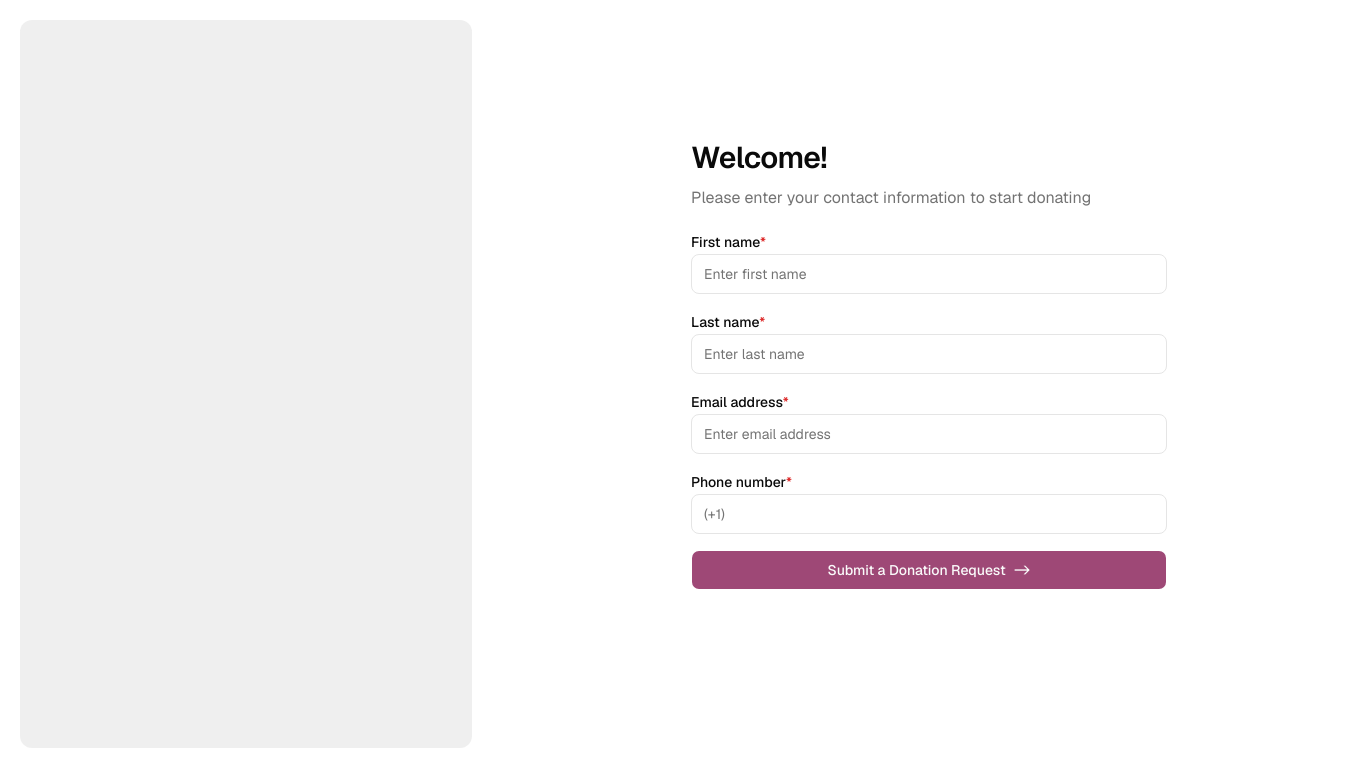
Test case: DonationContactForm › shows required, email, and phone validation messages
This screenshot has width=1366, height=768.
Click the button "Submit a Donation Request ->".
click(929, 570)  # box [691,550,1167,590]
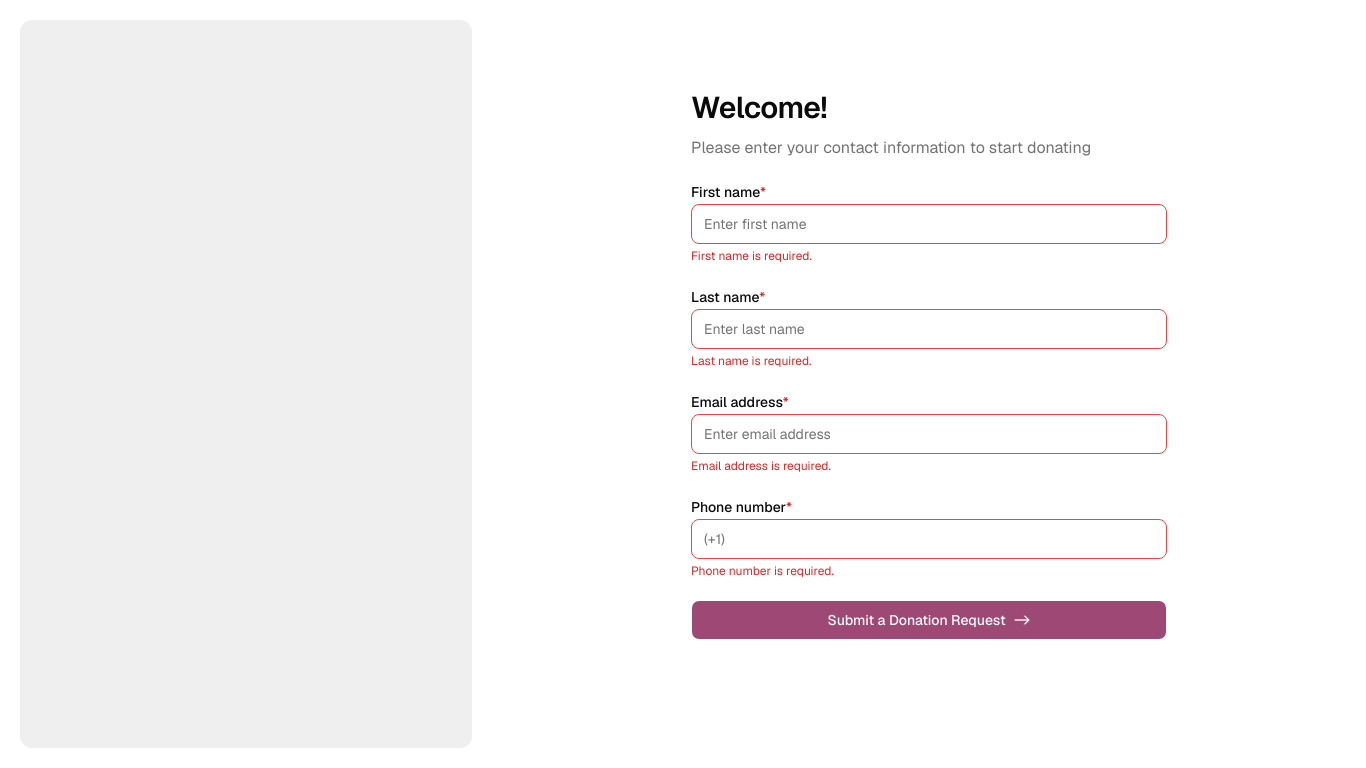
Result: the text "First name is required." is shown at [691,248,812,264]
Result: the text "Last name is required." is shown at [691,353,811,369]
Result: the text "Email address is required." is shown at [691,458,831,474]
Type "Jane" into the field labelled "First name*".
click(929, 224); type("Jane")  # box [691,204,1167,244]
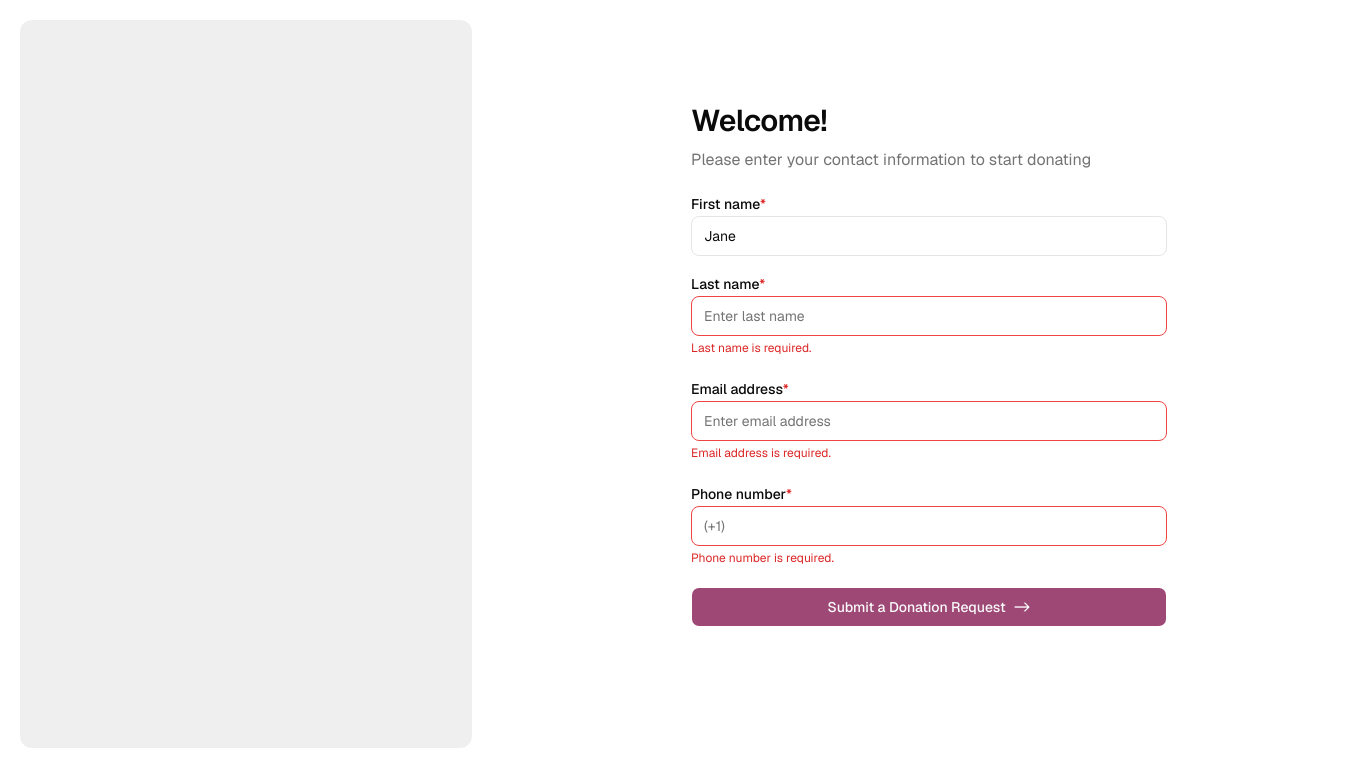
Type "Doe" into the field labelled "Last name*".
click(929, 316); type("Doe")  # box [691,296,1167,336]
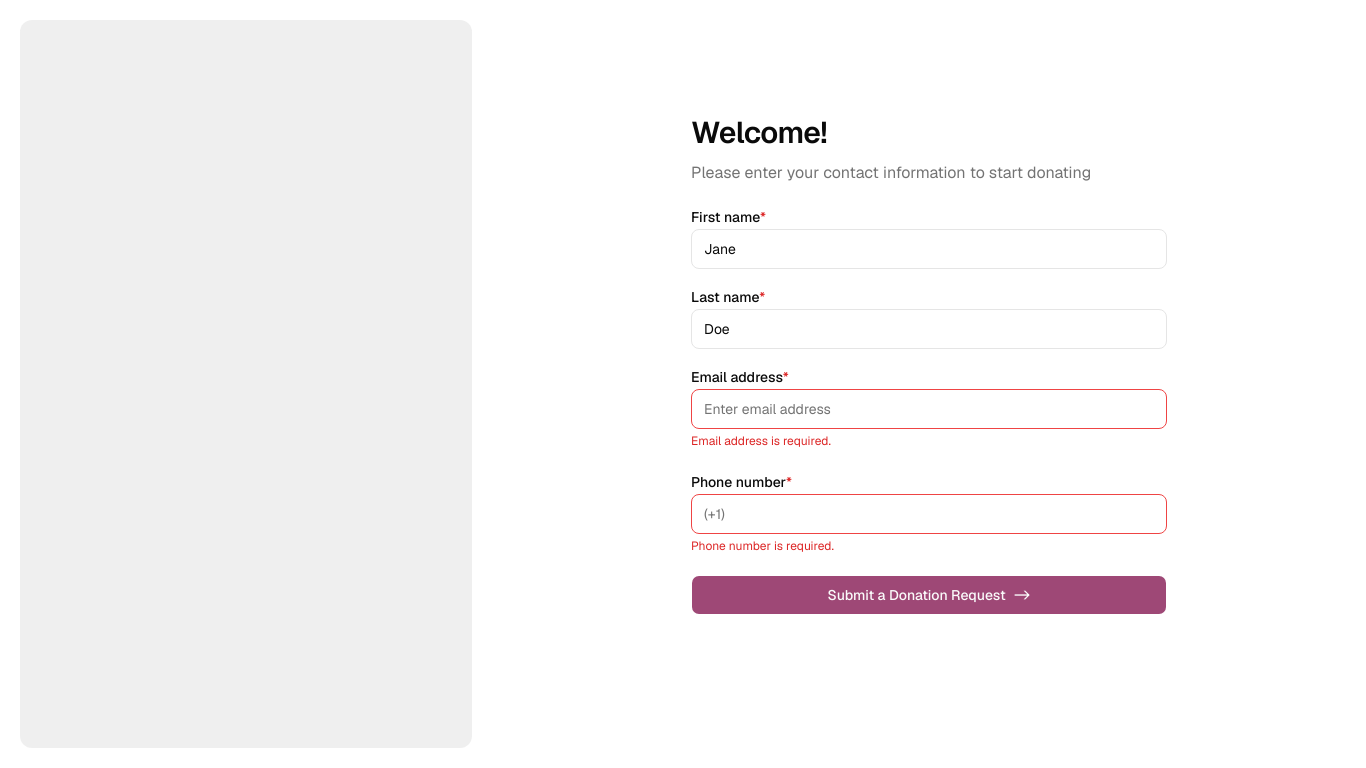
Type "invalid-email" into the field labelled "Email address*".
click(929, 409); type("invalid-email")  # box [691,389,1167,429]
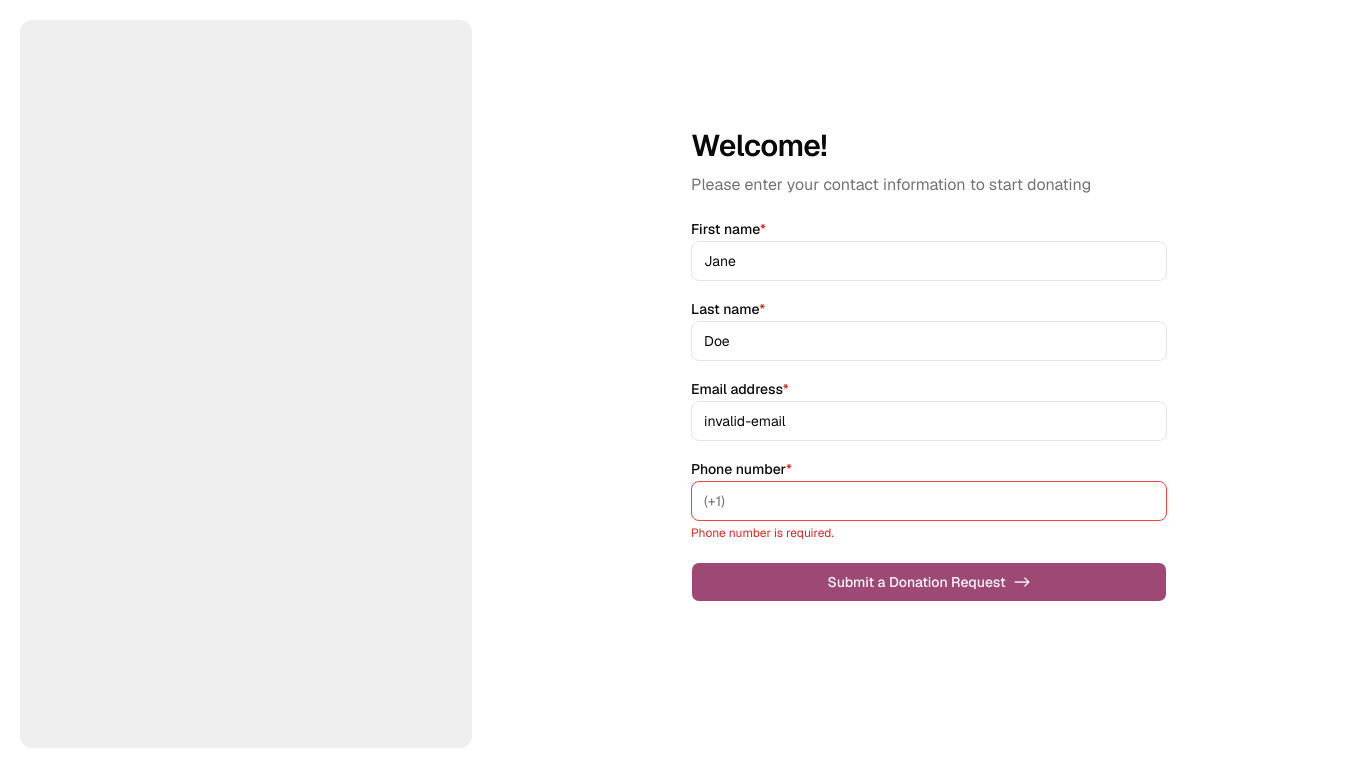
Type "abc123" into the field labelled "Phone number*".
click(929, 501); type("abc123")  # box [691,481,1167,521]
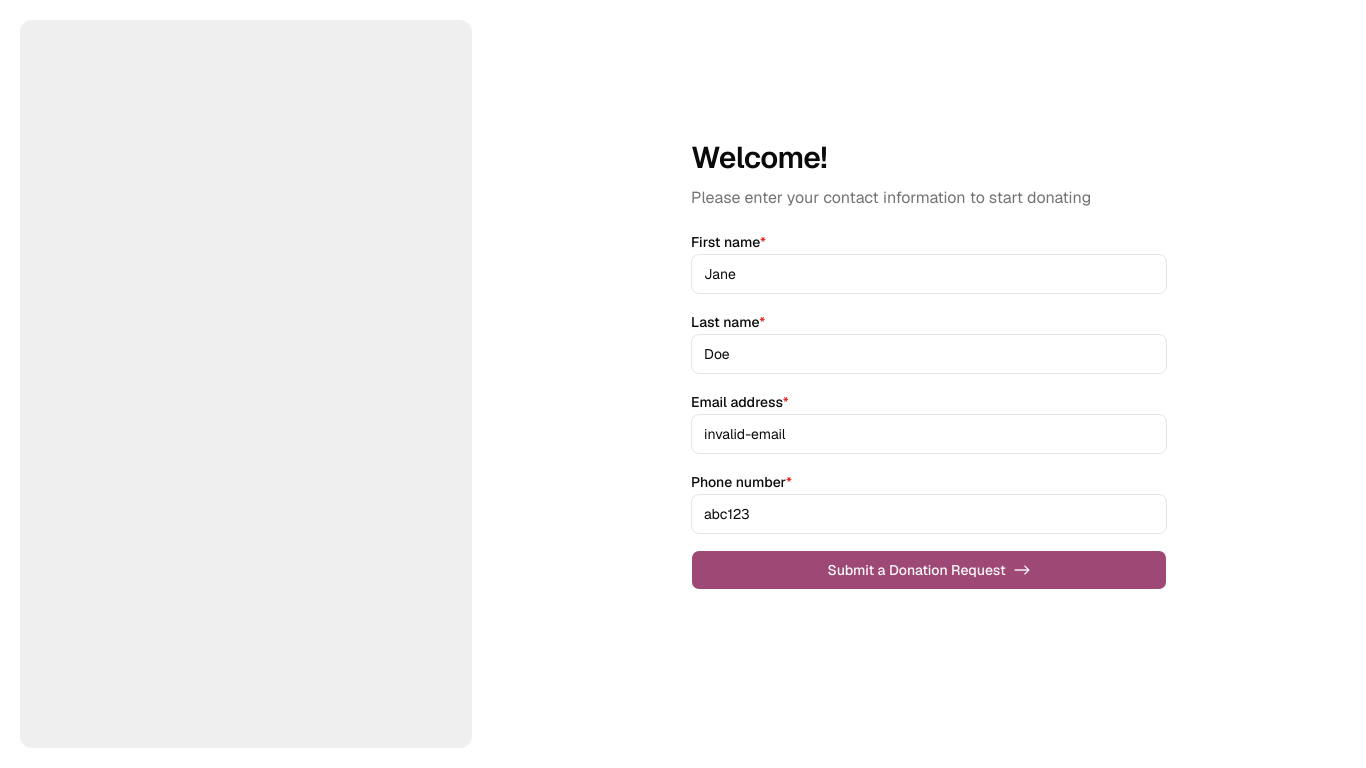
Click the button "Submit a Donation Request ->".
click(929, 570)  # box [691,550,1167,590]
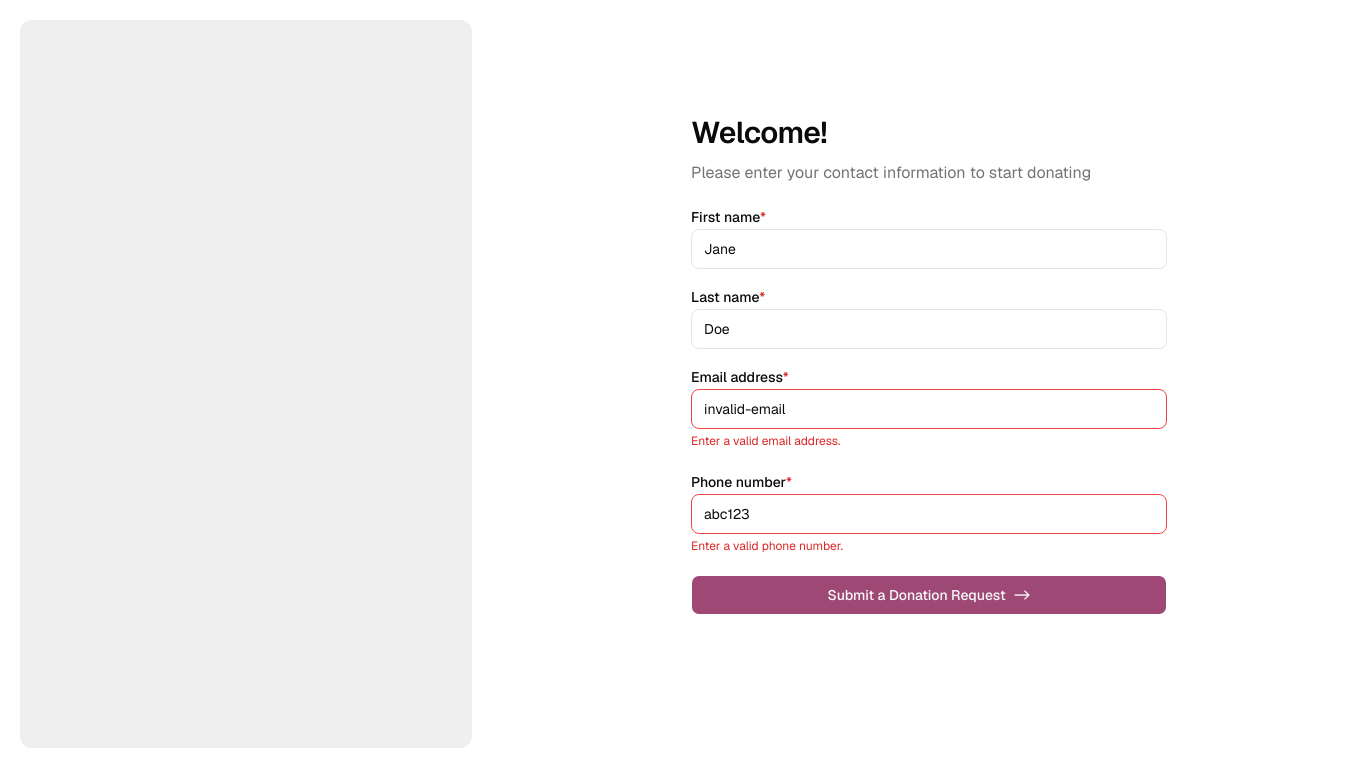
Result: the text "Enter a valid email address." is shown at [691,433,840,449]
Result: the text "Enter a valid phone number." is shown at [691,538,843,554]
